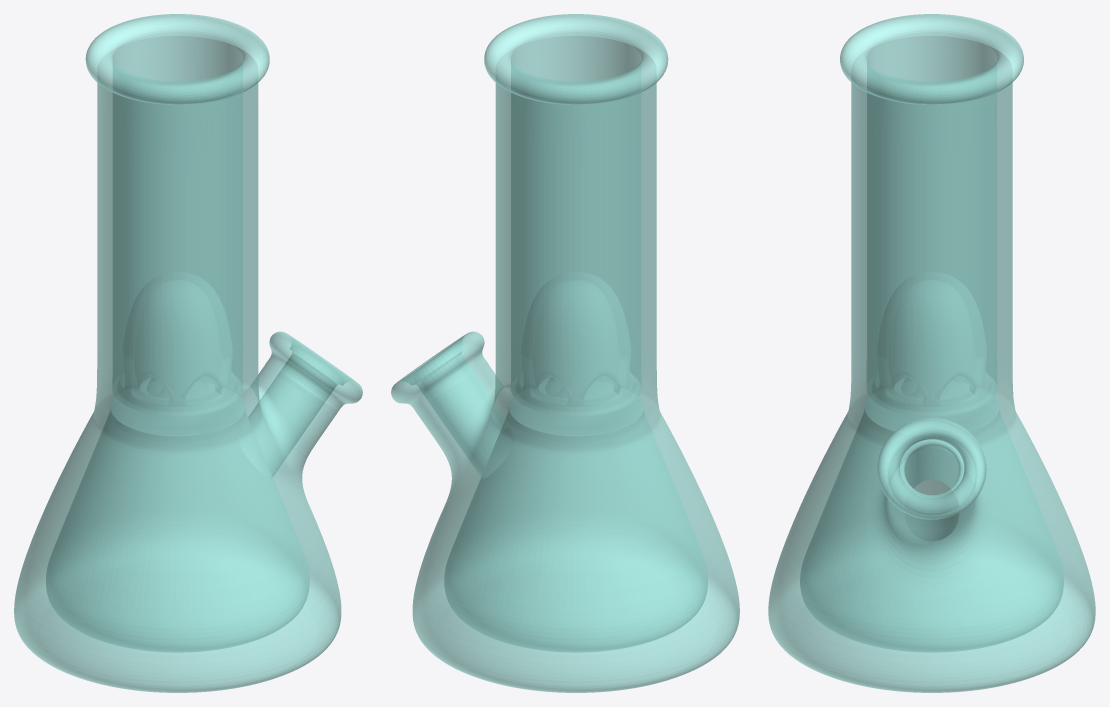
The model's file is bong.glb.
3 renders of one model, left to right at view 1: azimuth 30°, elevation 25°; view 2: azimuth 150°, elevation 25°; view 3: azimuth 270°, elevation 25°, orthographic.
Parts seen in each view (by area): view 1: Bong; view 2: Bong; view 3: Bong.
Part boxes in pixels (box(x1,y1,x2,y2)): Bong: box(14, 14, 362, 692); Bong: box(391, 14, 739, 692); Bong: box(768, 14, 1095, 692).
Bounding box in the file's own units: 39.88 × 69.74 × 35.55.
